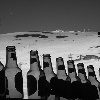beer: (3, 40, 24, 100)
